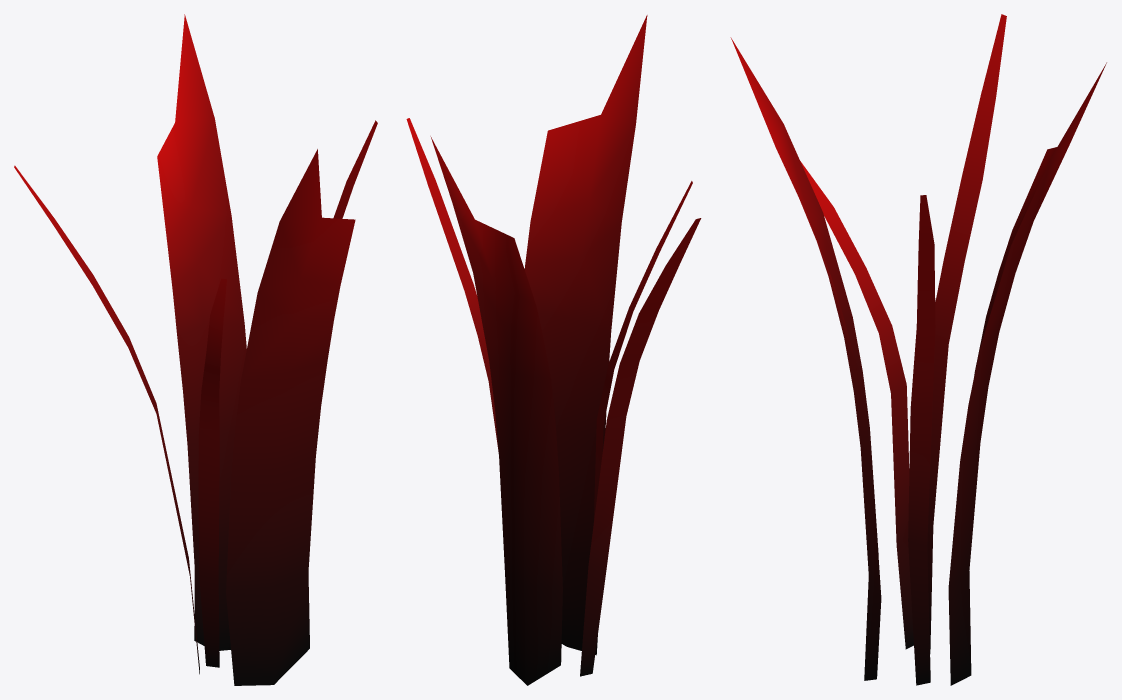
File: TallGrass.fbx
3 views of the same model, side by side, from view 1: azimuth 30°, elevation 25°; view 2: azimuth 150°, elevation 25°; view 3: azimuth 270°, elevation 25° (orthographic). The views are drawn at different scales.
Parts seen in each view (by area): view 1: TallGrass; view 2: TallGrass; view 3: TallGrass.
Part boxes in pixels (x1,y1,x2,y2): TallGrass: (14,14,377,685); TallGrass: (406,15,701,685); TallGrass: (730,14,1106,685).
Bounding box in the file's own units: 162 × 277 × 149.
